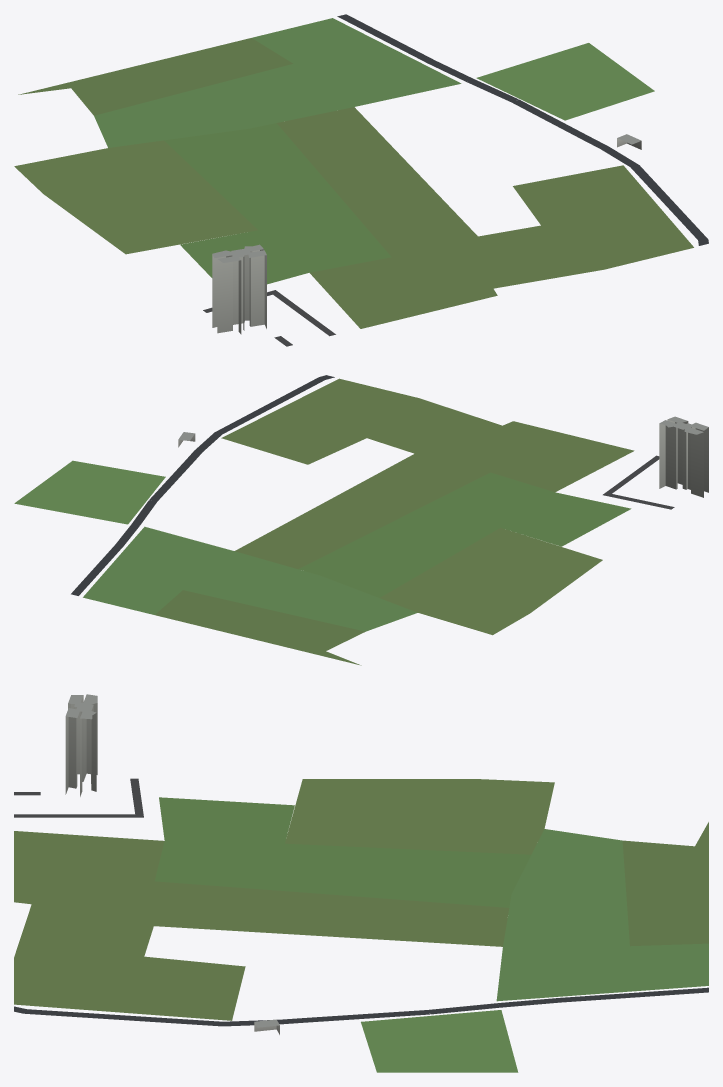
3 renders of one model, top to bottom at view 1: azimuth 30°, elevation 25°; view 2: azimuth 150°, elevation 25°; view 3: azimuth 270°, elevation 25°, orthographic. The views are drawn at different scales.
Parts seen in each view (by area): view 1: ground, building; view 2: ground, building; view 3: ground, building.
Boxes of the visible parts, left/top/right/bottom form: ground: left=14, top=14, right=708, bottom=346; building: left=212, top=134, right=641, bottom=334; ground: left=14, top=375, right=674, bottom=665; building: left=178, top=416, right=708, bottom=497; ground: left=14, top=778, right=708, bottom=1072; building: left=65, top=694, right=279, bottom=1034.
Size of the model in its own units: 511 by 63 by 500.
